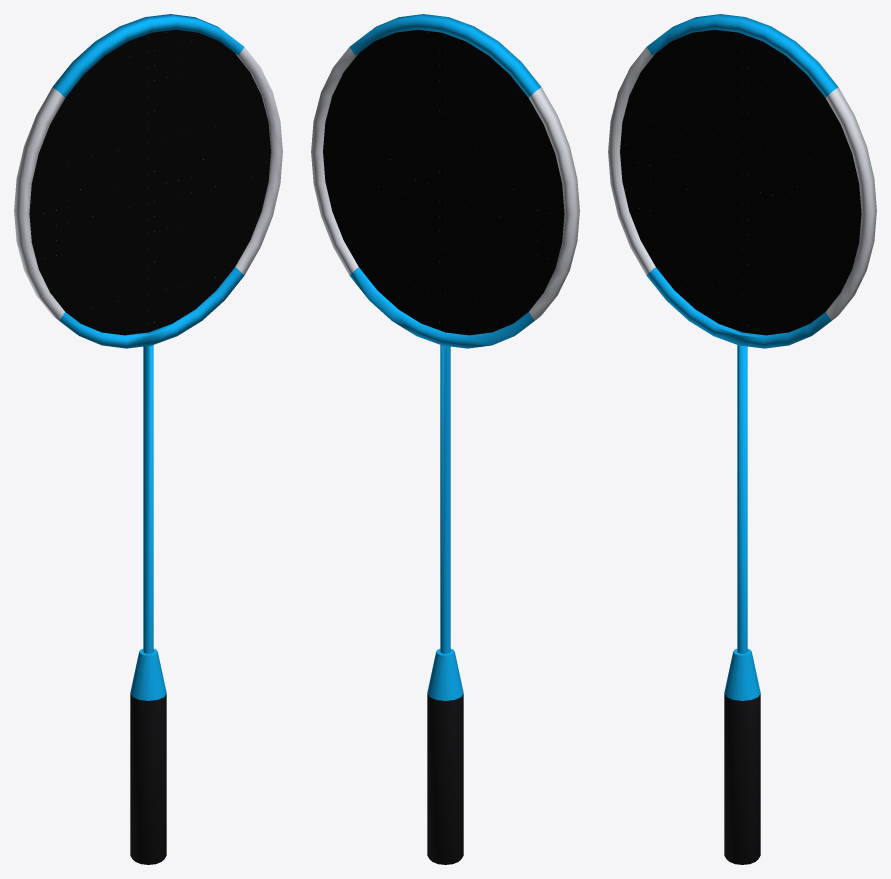
File: 755c9f2b-cd82-404f-9e43-588d6dcf886b.glb
3 renders of one model, left to right at view 1: azimuth 30°, elevation 25°; view 2: azimuth 150°, elevation 25°; view 3: azimuth 330°, elevation 25°, orthographic.
Parts seen in each view (by area): view 1: RacquetWireBadminton, BadmintonRacquet; view 2: RacquetWireBadminton, BadmintonRacquet; view 3: RacquetWireBadminton, BadmintonRacquet.
Part boxes in pixels (<box>): RacquetWireBadminton: <box>29,29,270,335</box>; BadmintonRacquet: <box>14,14,282,864</box>; RacquetWireBadminton: <box>323,29,564,335</box>; BadmintonRacquet: <box>311,14,579,864</box>; RacquetWireBadminton: <box>620,29,861,335</box>; BadmintonRacquet: <box>608,14,876,864</box>.
Size of what is drawn, in the model's own units: 0.2109 by 0.6453 by 0.0255.
Materials: 2 (2 with a texture image).
